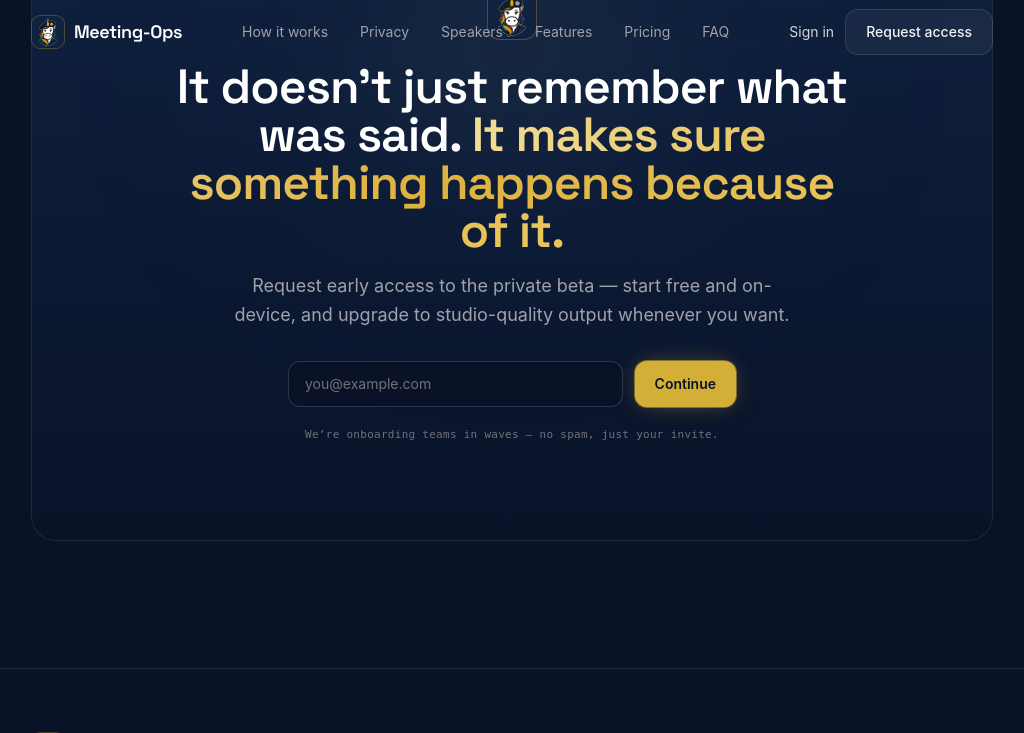
Landing › rejects an invalid email before hitting the network
The image size is (1024, 733).
(page scrolled)
In the field named "email address": [455, 384] box top-left (288, 361), bottom-right (623, 407), type "not-an-email"
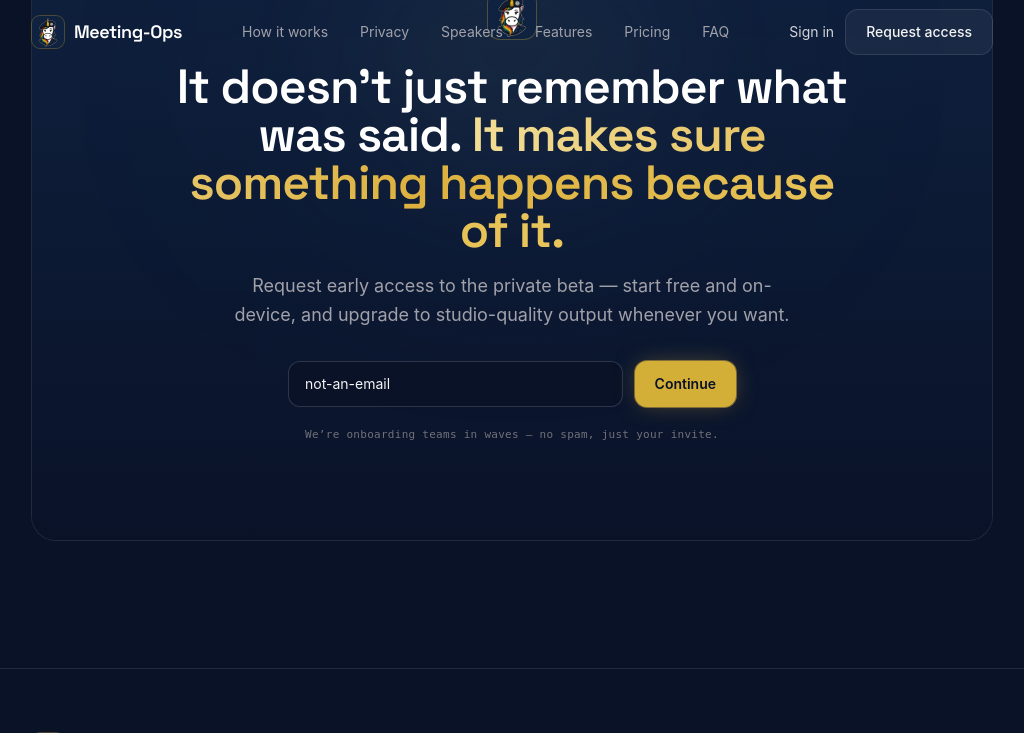
Click the button "Continue": [685, 384] box top-left (635, 361), bottom-right (736, 407)
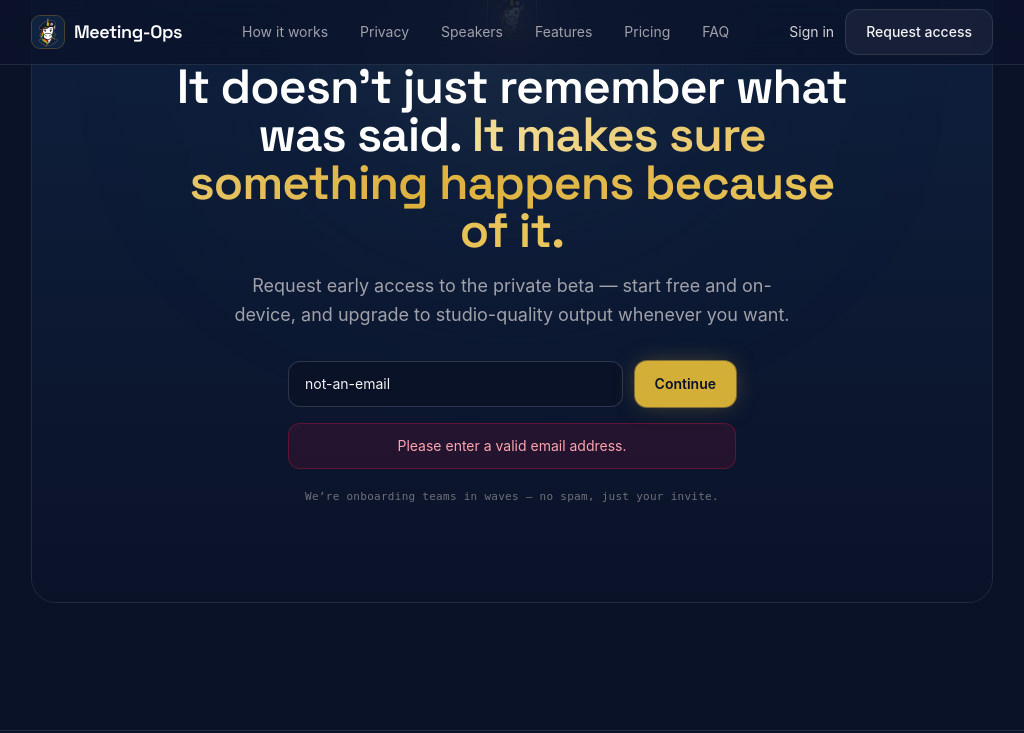
Expected: the text "Please enter a valid email address." is shown, top-left (288, 423), bottom-right (736, 469)
